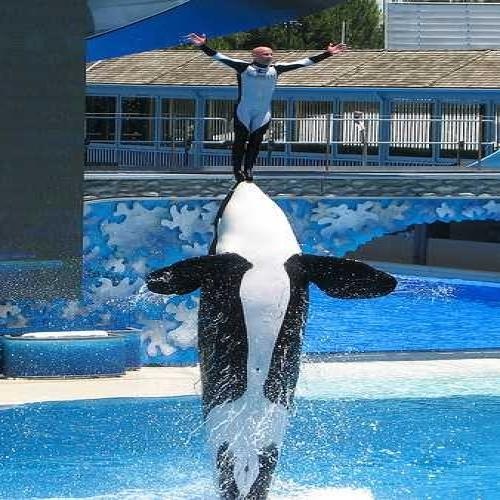killer_whale-endangered: (149, 175, 364, 500)
